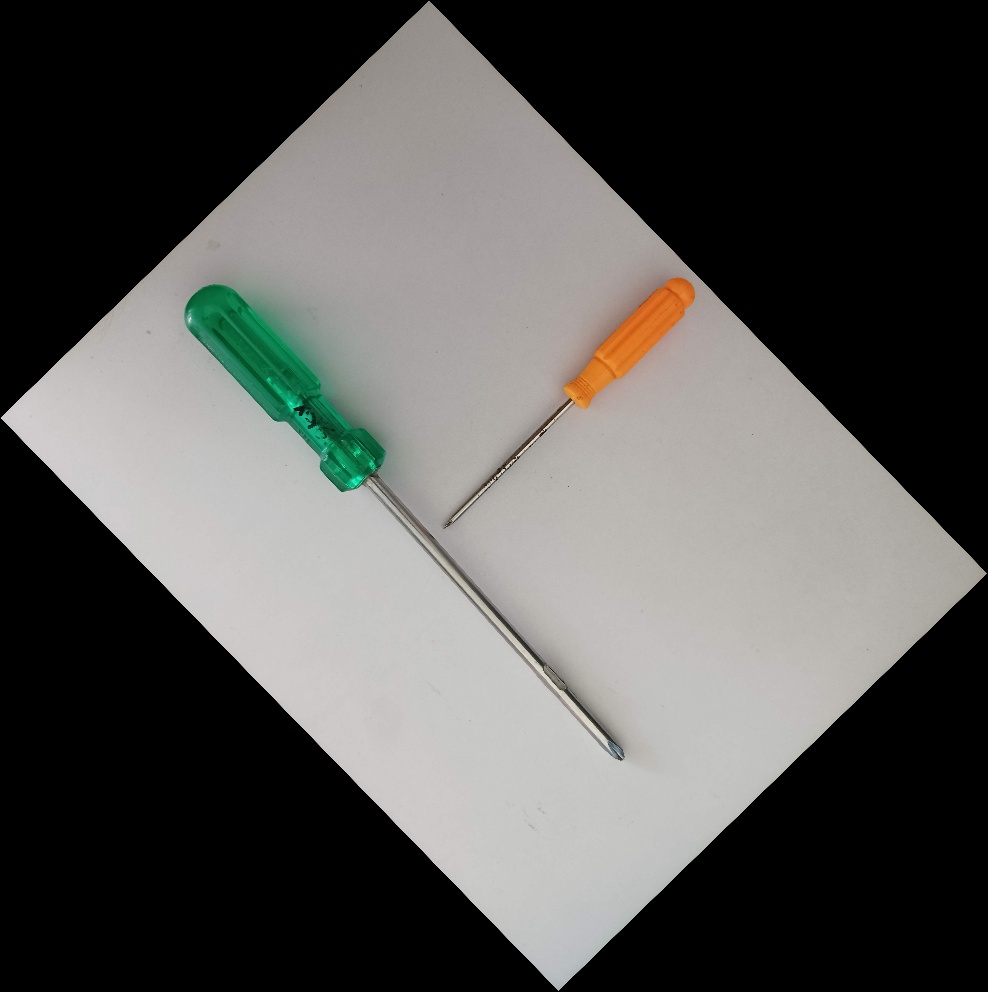screwdriver: (182, 279, 630, 766), (435, 269, 700, 533)
